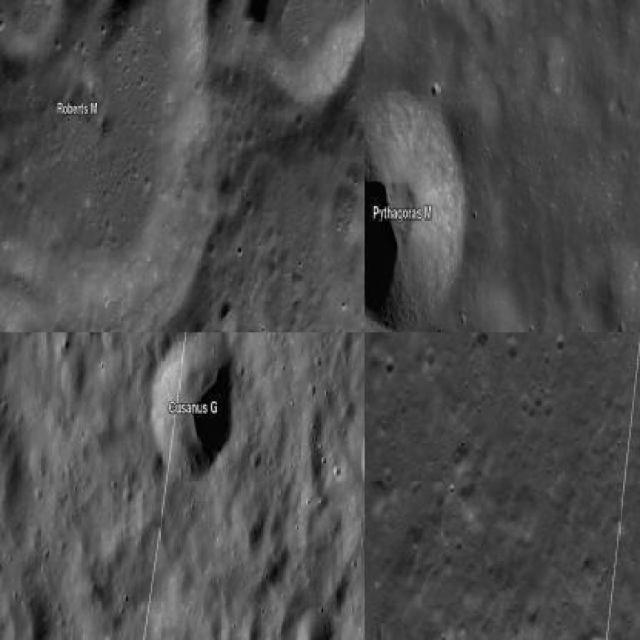crater: (0, 0, 214, 331), (364, 94, 464, 329), (242, 0, 363, 106), (154, 332, 234, 480), (294, 608, 335, 638)
